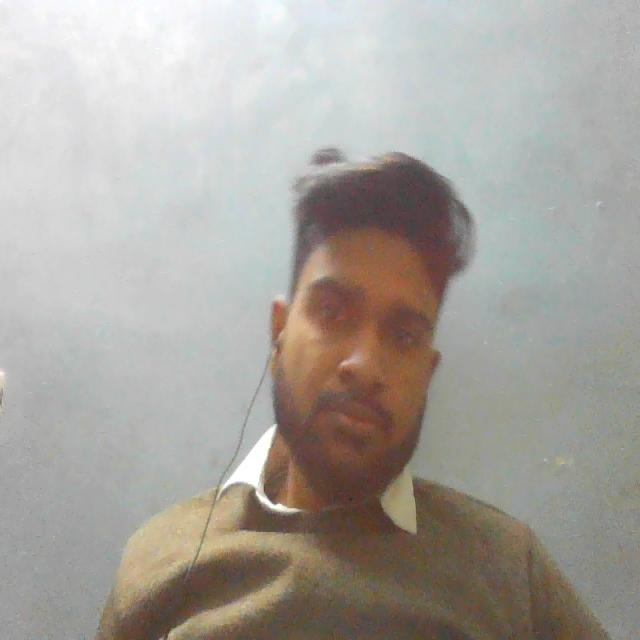real: (270, 145, 456, 496)
